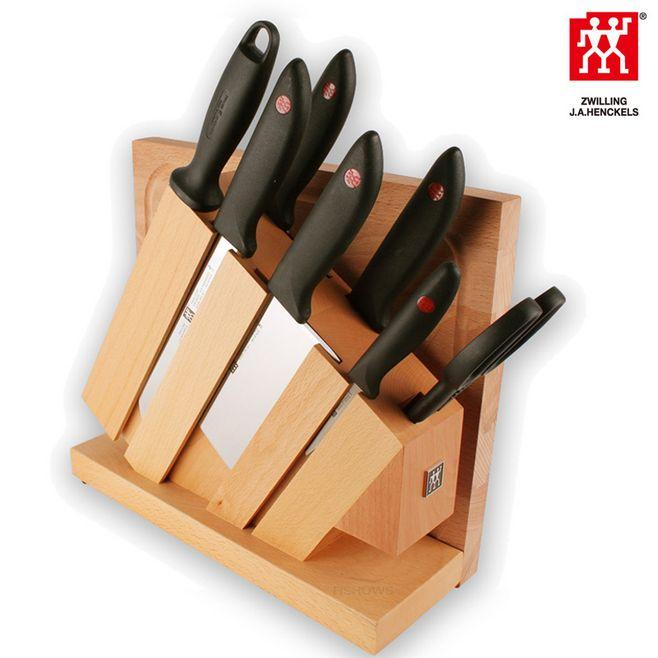knife: (76, 4, 444, 591)
